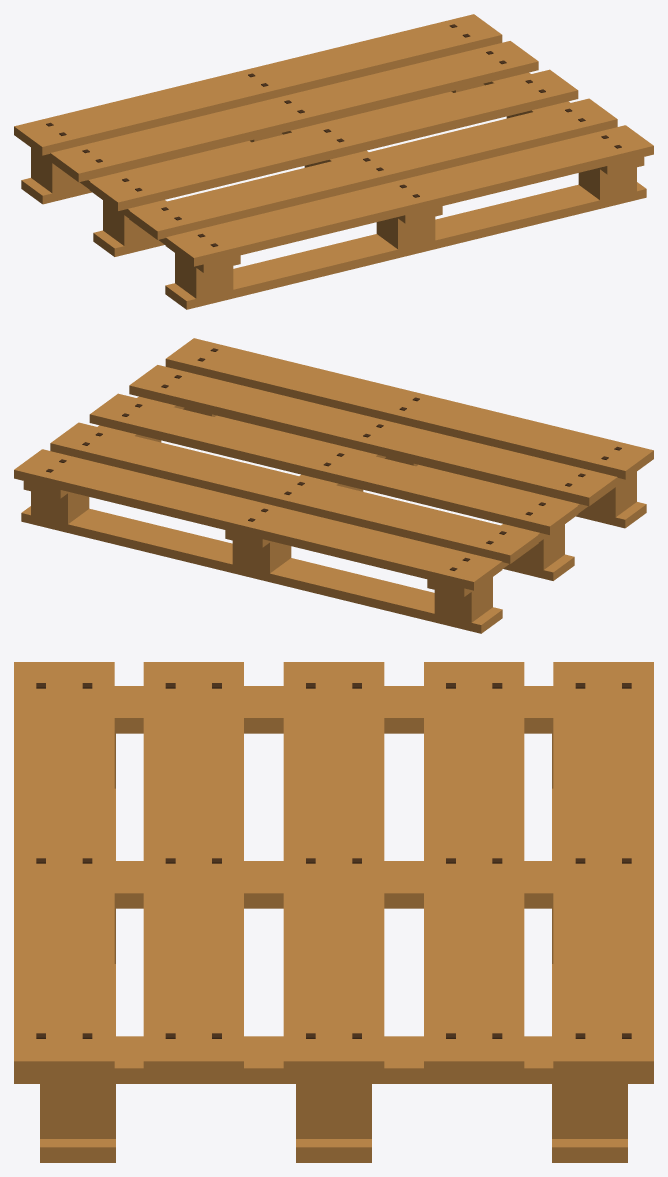
File: pallet.fbx
3 views of the same model, one above another, from view 1: azimuth 30°, elevation 25°; view 2: azimuth 150°, elevation 25°; view 3: azimuth 270°, elevation 25° (orthographic). The views are drawn at different scales.
Visible parts, largest first — view 1: Sacks_Pallet_Generator.002; view 2: Sacks_Pallet_Generator.002; view 3: Sacks_Pallet_Generator.002.
Boxes of the visible parts, x1,y1,x2,y2 form: Sacks_Pallet_Generator.002: [14, 14, 653, 309]; Sacks_Pallet_Generator.002: [14, 338, 653, 633]; Sacks_Pallet_Generator.002: [14, 662, 653, 1162].
Bounding box in the file's own units: 155 × 18.65 × 105.
